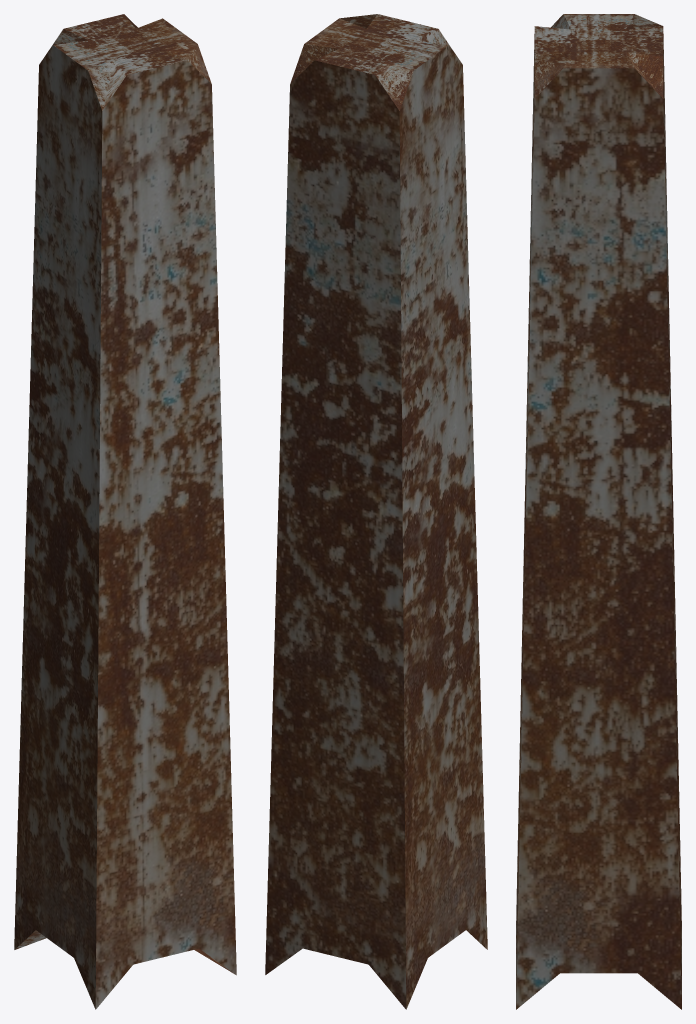
File: IronPillar.fbx
The picture shows the model from 3 angles, left to right: view 1: azimuth 30°, elevation 25°; view 2: azimuth 150°, elevation 25°; view 3: azimuth 270°, elevation 25°; orthographic projection.
Parts seen in each view (by area): view 1: IronPillar; view 2: IronPillar; view 3: IronPillar.
Part boxes in pixels (x1,y1,x2,y2): IronPillar: (14, 14, 236, 1009); IronPillar: (265, 14, 487, 1009); IronPillar: (516, 14, 681, 1009).
Size of the model in its own units: 60 by 373 by 60.
Materials: 1 (1 with a texture image).
